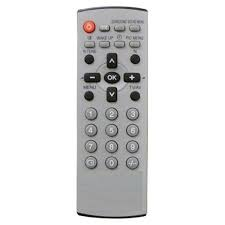remote control: (70, 7, 156, 225)
